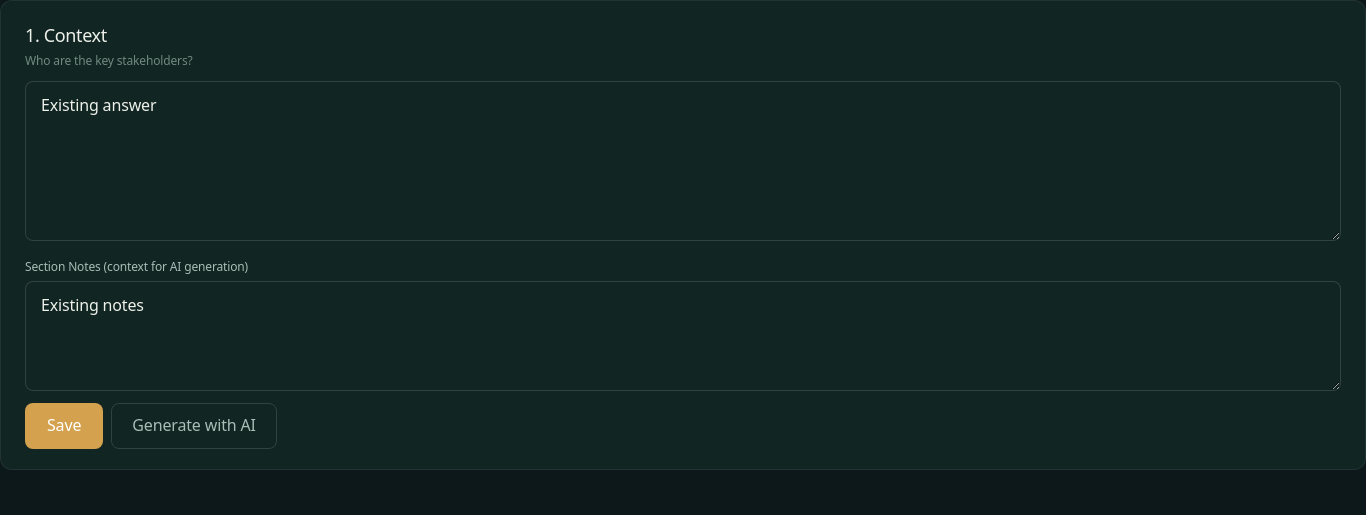
SMQSection › save failure shows error message
The image size is (1366, 515).
Click the button "Save": (64,426) x1=25 y1=403 x2=103 y2=449
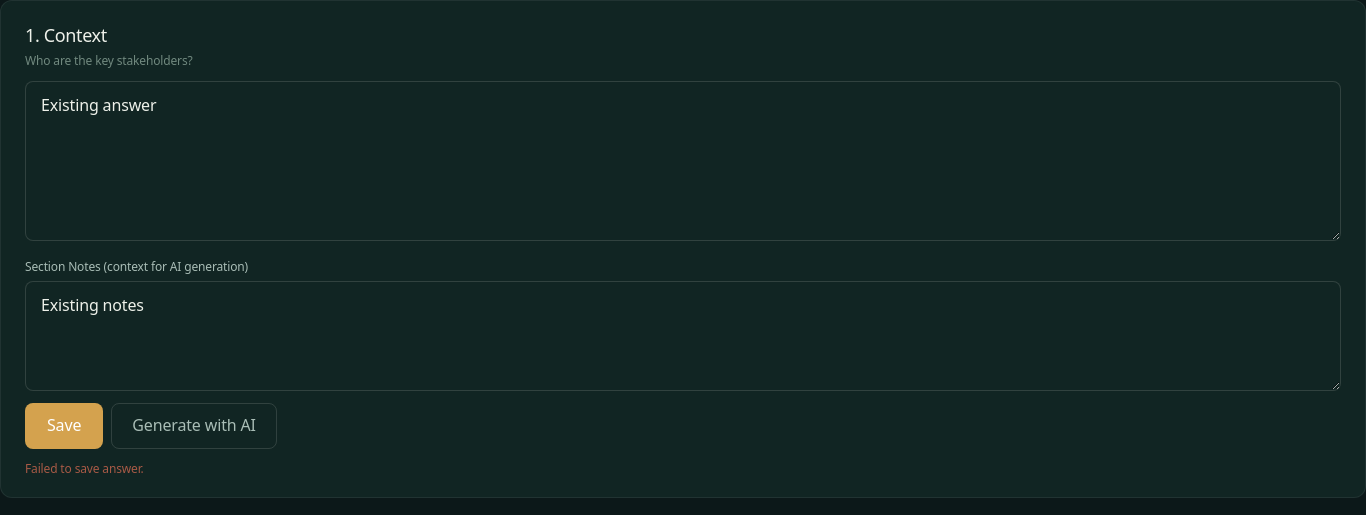
Expected: the text "Failed to save answer." is shown, x1=25 y1=460 x2=144 y2=477
